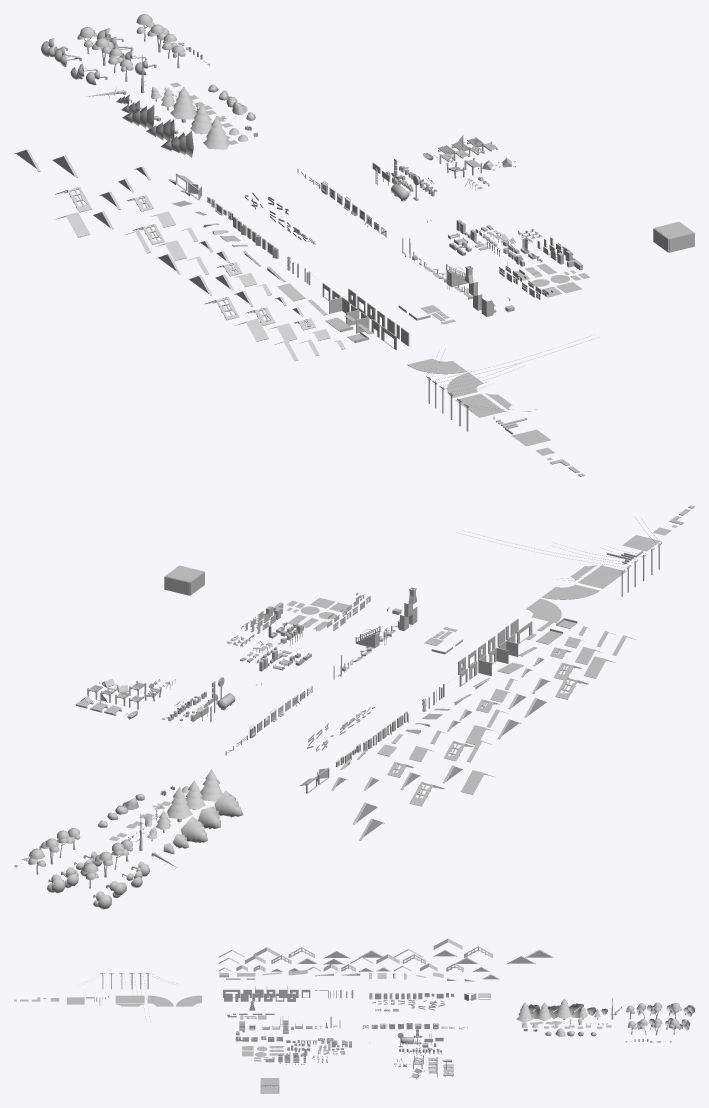
3 renders of one model, top to bottom at view 1: azimuth 30°, elevation 25°; view 2: azimuth 150°, elevation 25°; view 3: azimuth 270°, elevation 25°, orthographic. The views are drawn at different scales.
Parts seen in each view (by area): view 1: MeshBaker-ModularParts_3, MeshBaker-FencesBarricadesTrees_2; view 2: MeshBaker-ModularParts_3, MeshBaker-FencesBarricadesTrees_2; view 3: MeshBaker-ModularParts_3, MeshBaker-FencesBarricadesTrees_2.
Boxes of the visible parts, <box> form: MeshBaker-ModularParts_3: <box>14,42,694,476</box>; MeshBaker-FencesBarricadesTrees_2: <box>41,14,386,244</box>; MeshBaker-ModularParts_3: <box>14,505,694,867</box>; MeshBaker-FencesBarricadesTrees_2: <box>28,685,375,909</box>; MeshBaker-ModularParts_3: <box>14,938,672,1093</box>; MeshBaker-FencesBarricadesTrees_2: <box>363,998,694,1035</box>.
Size of the model in its own units: 111 by 11.35 by 233.
